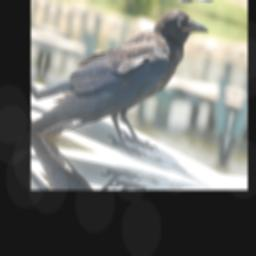Crow: (32, 0, 212, 179)
